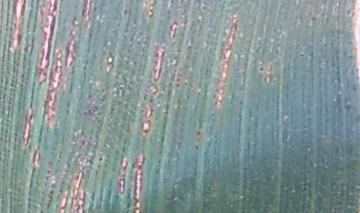tarspot: (258, 65, 266, 73), (195, 129, 202, 138), (310, 14, 316, 24), (97, 156, 104, 162), (194, 144, 200, 151), (121, 9, 129, 14)
